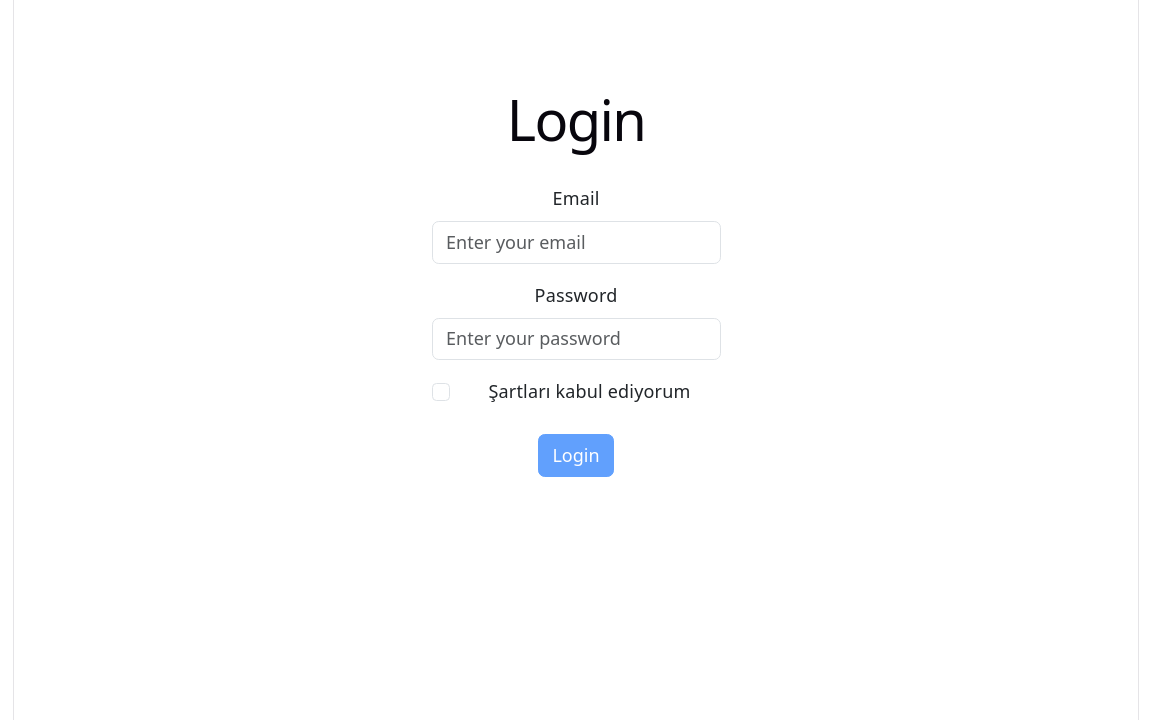
Test: Login formu › email yanlış girilince 1 hata mesajı görünüyor ve buton disabled kalıyor
This screenshot has width=1152, height=720.
Type "erdem@wit" into the field with id "email" at (577, 243), box [432,221,721,264]
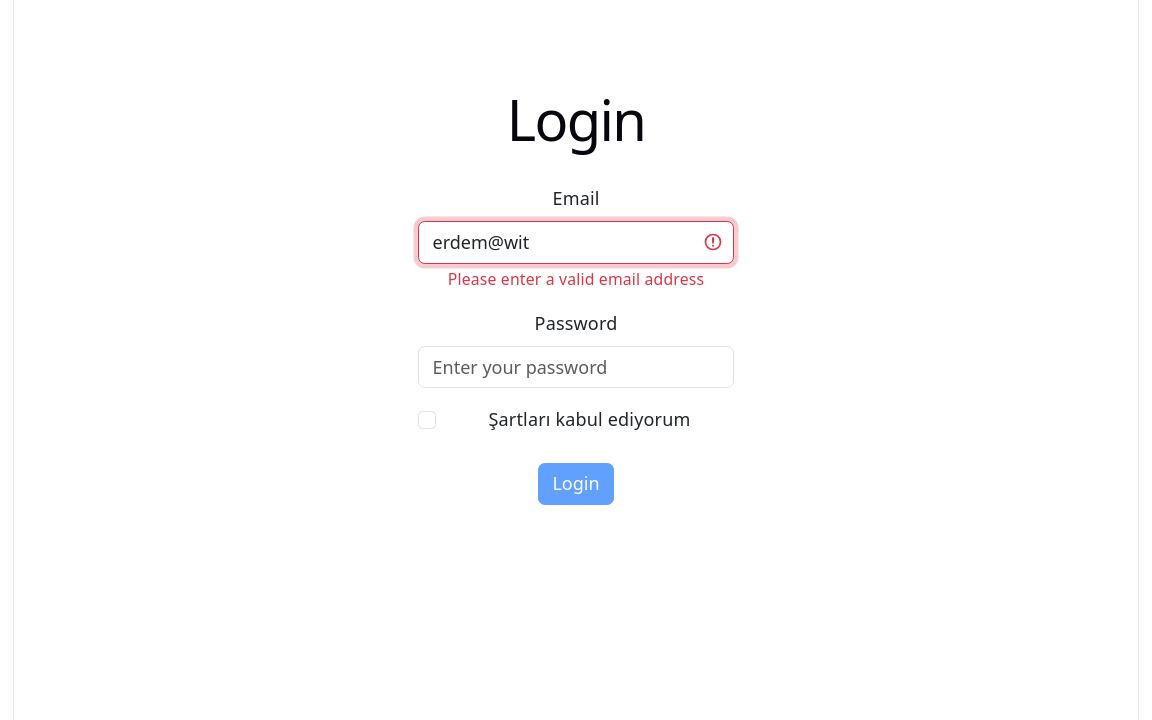
Expected: the submit button is disabled, [538,463,614,506]
Now the number of elements with class "invalid-feedback" is 1, box [448,268,705,290]
Now the text "Please enter a valid email address" is shown, box [448,268,704,290]
